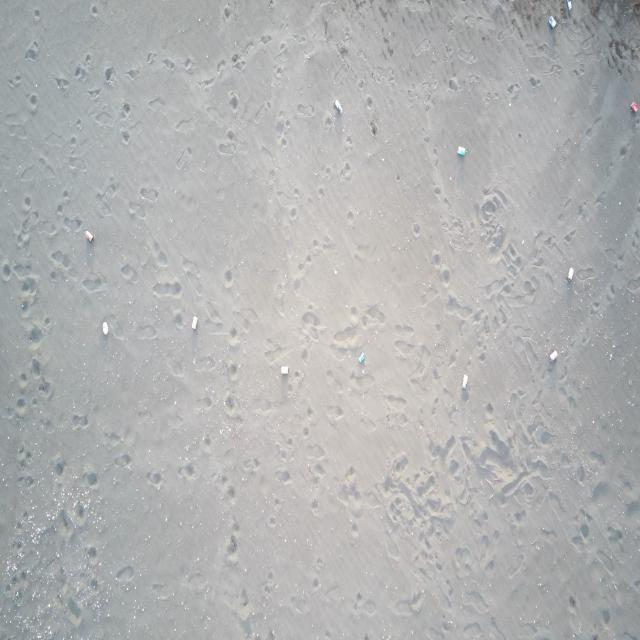tin-and-aluminum-cans: (334, 99, 344, 116), (84, 230, 95, 243), (566, 267, 574, 284), (191, 314, 199, 330), (102, 320, 109, 337), (549, 15, 557, 29), (456, 145, 466, 156), (549, 350, 558, 362), (631, 101, 639, 114), (280, 365, 290, 375), (462, 374, 468, 390), (358, 352, 365, 364), (565, 0, 572, 12)
